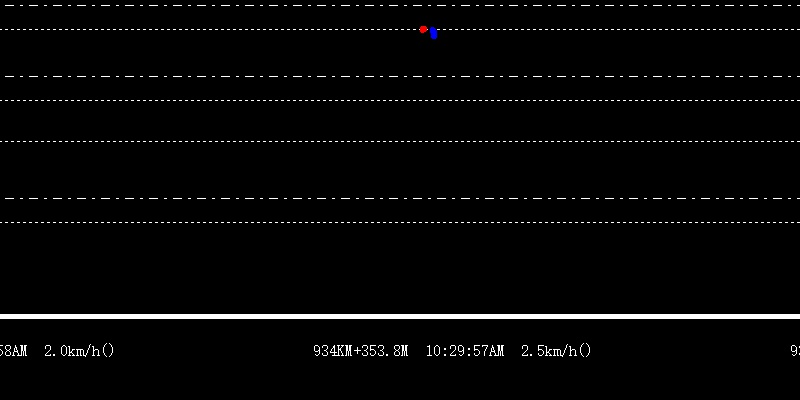face_1: (428, 26, 437, 41), (418, 24, 426, 35)
